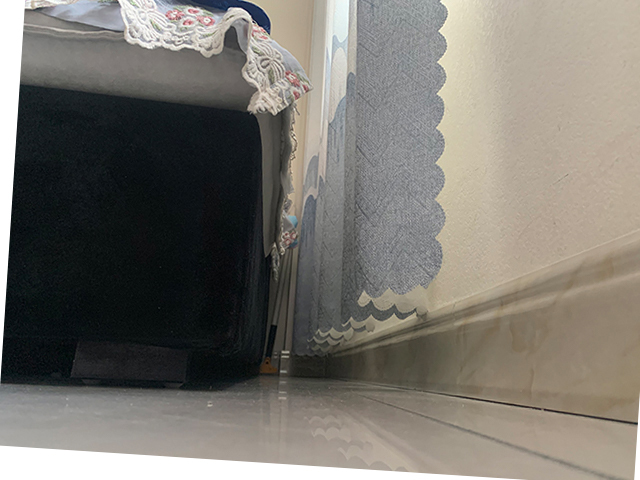curtain: (289, 1, 448, 359)
sofa: (6, 1, 316, 392)
